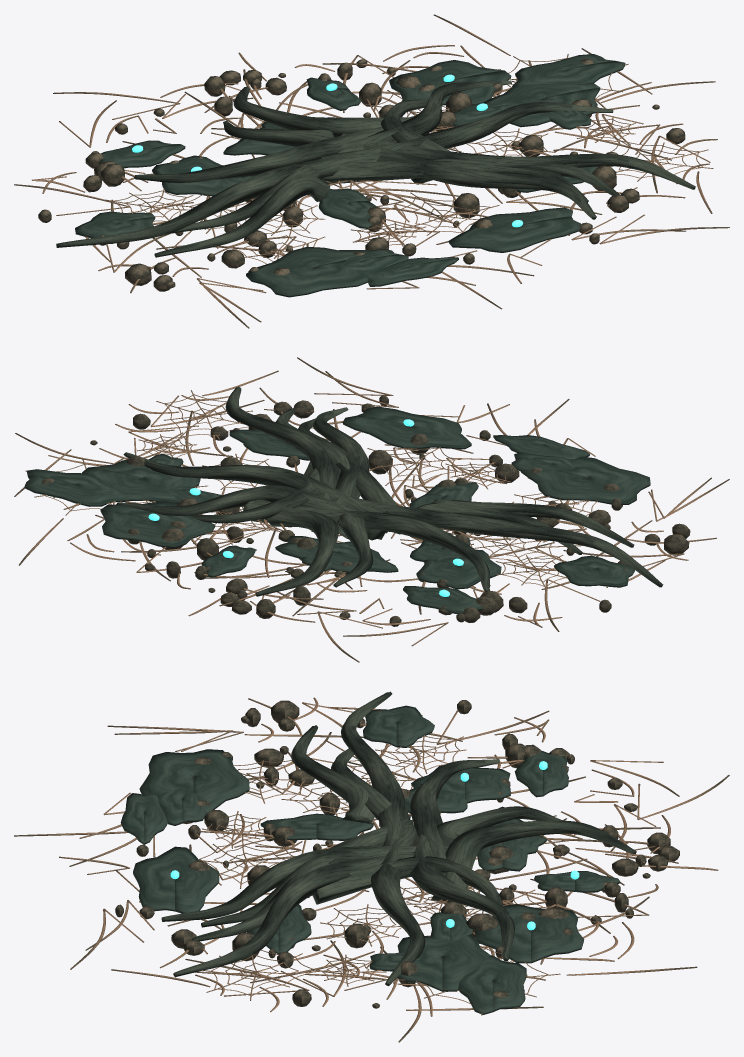
3 renders of one model, top to bottom at view 1: azimuth 30°, elevation 25°; view 2: azimuth 150°, elevation 25°; view 3: azimuth 270°, elevation 25°, orthographic. The views are drawn at different scales.
Visible parts, largest first — view 1: Mat_interlaced_mineral_root_fibres, Mat_irregular_nutrient_pockets, Mat_fine_secondary_mycelium, Mat_embedded_mineral_grains; view 2: Mat_irregular_nutrient_pockets, Mat_interlaced_mineral_root_fibres, Mat_fine_secondary_mycelium, Mat_embedded_mineral_grains; view 3: Mat_irregular_nutrient_pockets, Mat_interlaced_mineral_root_fibres, Mat_fine_secondary_mycelium, Mat_embedded_mineral_grains.
Part boxes in pixels (x1,y1,x2,y2): Mat_interlaced_mineral_root_fibres: (56, 80, 695, 257); Mat_irregular_nutrient_pockets: (75, 54, 625, 297); Mat_fine_secondary_mycelium: (14, 14, 729, 328); Mat_embedded_mineral_grains: (38, 58, 685, 291); Mat_irregular_nutrient_pockets: (24, 406, 650, 614); Mat_interlaced_mineral_root_fibres: (116, 386, 663, 596); Mat_fine_secondary_mycelium: (14, 357, 729, 662); Mat_embedded_mineral_grains: (41, 395, 690, 626); Mat_irregular_nutrient_pockets: (120, 705, 619, 1014); Mat_interlaced_mineral_root_fibres: (161, 691, 636, 985); Mat_fine_secondary_mycelium: (14, 697, 729, 1042); Mat_embedded_mineral_grains: (115, 700, 679, 1008).
Size of the model in its own units: 5.22 by 0.2852 by 4.53.
5 materials, 4 textured.
